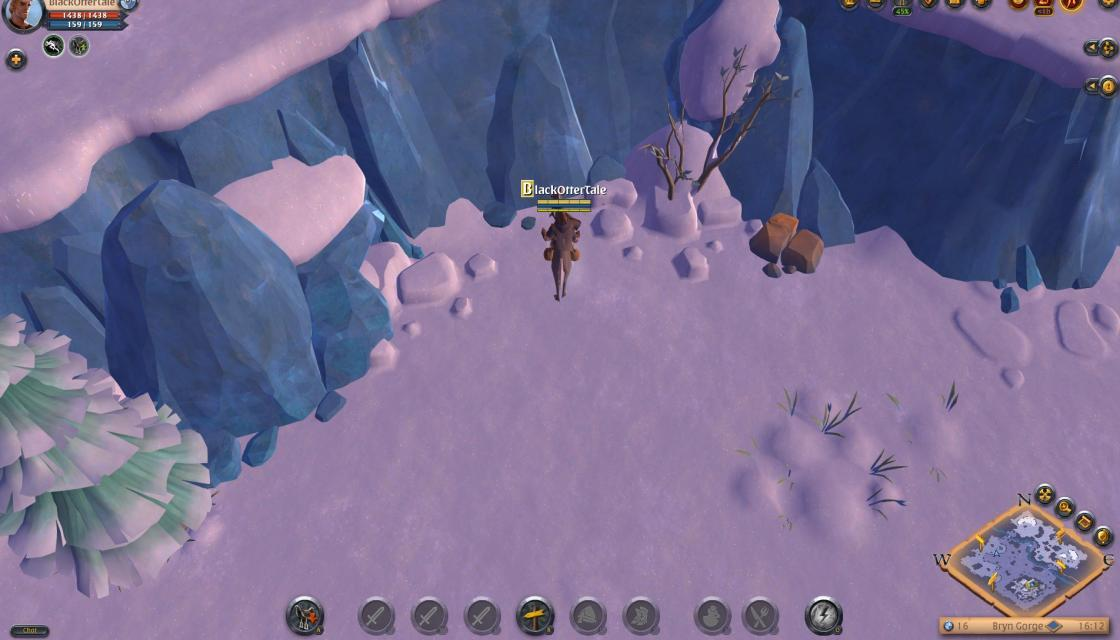limestone: (744, 208, 824, 278)
